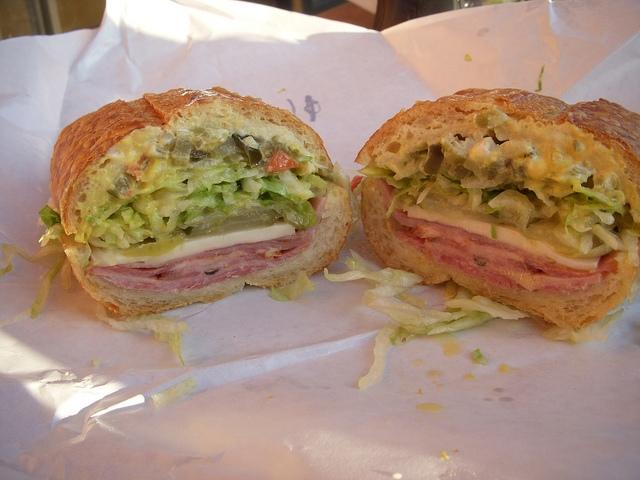lettuce: (358, 324, 412, 389), (362, 290, 452, 326), (576, 187, 624, 218), (564, 193, 598, 236), (184, 191, 220, 209), (156, 181, 189, 194), (530, 218, 560, 232), (182, 184, 207, 200), (472, 188, 482, 211)
